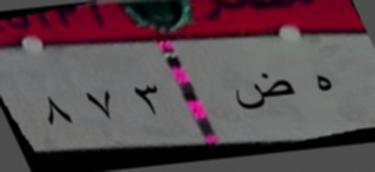3: (129, 72, 167, 121)
7: (80, 82, 118, 125)
8: (40, 88, 73, 132)
daad: (228, 68, 295, 113)
haa: (306, 67, 338, 102)
